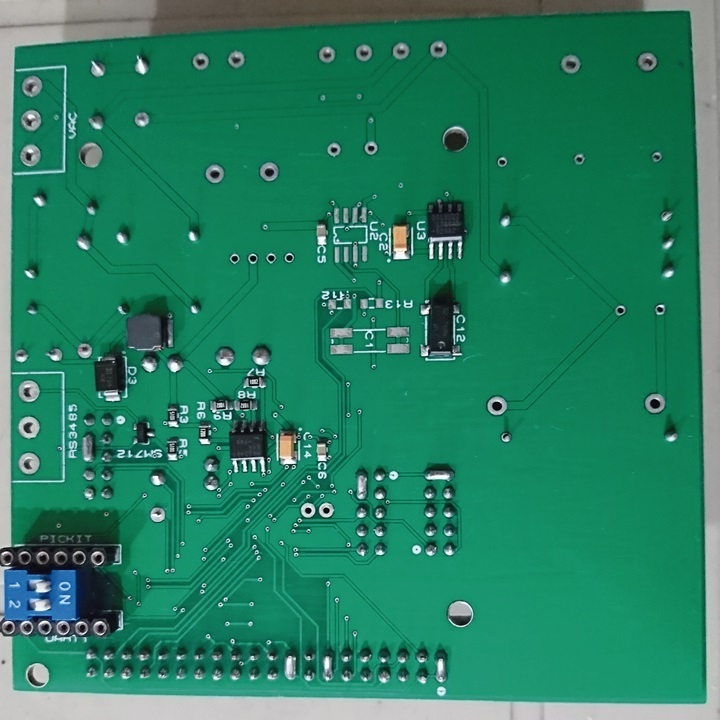F: (16, 140, 48, 168), (14, 378, 44, 405), (16, 412, 41, 442), (642, 390, 668, 418), (16, 450, 41, 479), (19, 75, 47, 100), (633, 49, 660, 74), (19, 108, 45, 133), (485, 393, 510, 418), (84, 54, 110, 78), (314, 42, 339, 66), (224, 46, 248, 71), (187, 49, 213, 72), (259, 159, 281, 186), (560, 52, 585, 75), (389, 40, 414, 63), (352, 41, 377, 64), (427, 37, 450, 61), (204, 161, 228, 184), (316, 498, 337, 523), (41, 346, 67, 366), (130, 111, 153, 132), (74, 340, 95, 361), (13, 347, 34, 368), (322, 139, 344, 159), (145, 505, 168, 524), (658, 206, 676, 229), (298, 500, 317, 520), (362, 140, 380, 158), (651, 149, 667, 166), (494, 154, 512, 169), (613, 304, 629, 320), (499, 429, 513, 447), (570, 152, 588, 166), (262, 252, 279, 266), (653, 302, 667, 318), (227, 252, 243, 266), (281, 253, 297, 267), (244, 254, 259, 266)
P: (419, 463, 459, 483), (319, 644, 336, 688), (280, 649, 301, 684), (433, 646, 450, 687), (79, 428, 96, 466), (354, 466, 369, 499)
